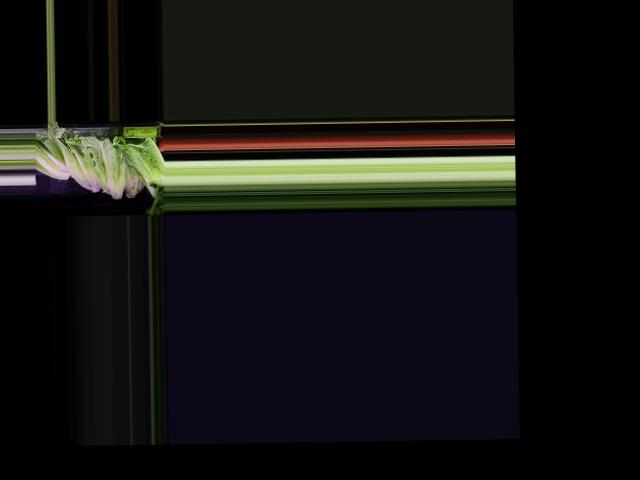lettuce: (34, 140, 73, 182)
